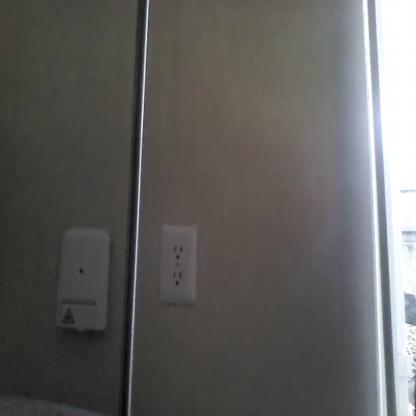OUTLET: (159, 224, 196, 304)
